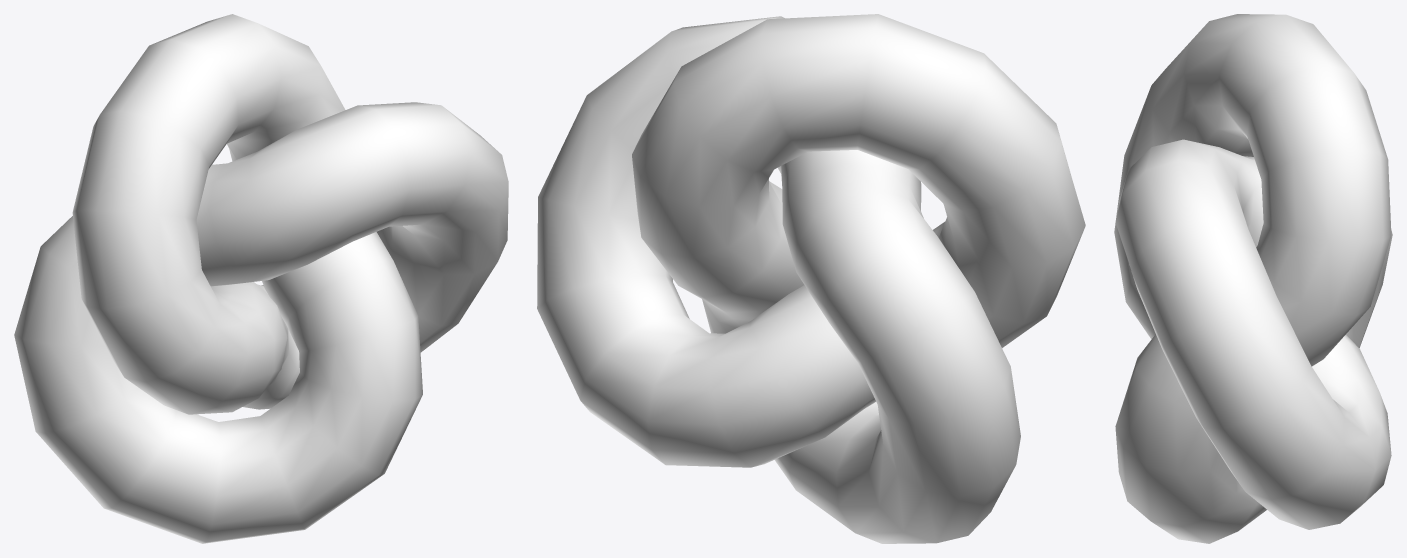
File: torus-knot_0.obj
3 renders of one model, left to right at view 1: azimuth 30°, elevation 25°; view 2: azimuth 150°, elevation 25°; view 3: azimuth 270°, elevation 25°, orthographic. The views are drawn at different scales.
Visible parts, largest first — view 1: TorusKnot; view 2: TorusKnot; view 3: TorusKnot.
Part boxes in pixels (<box>): TorusKnot: <box>14,14,508,543</box>; TorusKnot: <box>537,14,1085,543</box>; TorusKnot: <box>1114,14,1392,543</box>.
Bounding box in the file's own units: 3.61 × 3.73 × 1.91.
